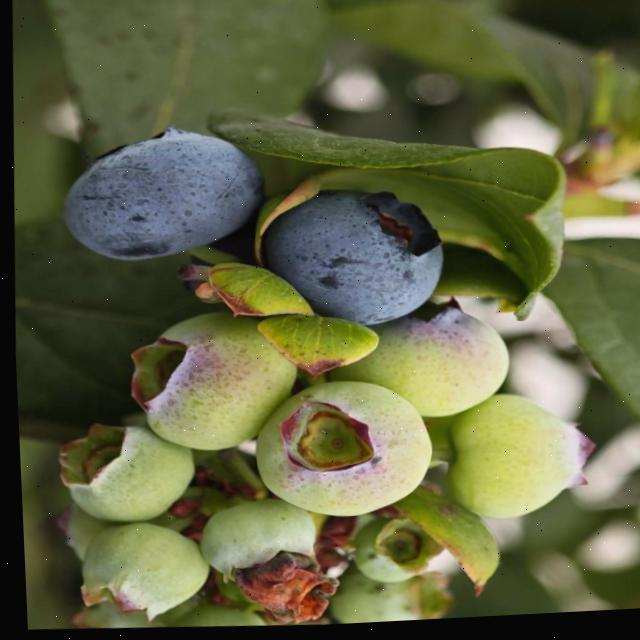RipeBlueBerry: (67, 130, 266, 268), (266, 189, 444, 328)
UnripeBlueBerry: (244, 379, 430, 527), (128, 313, 297, 455), (442, 398, 587, 529)
